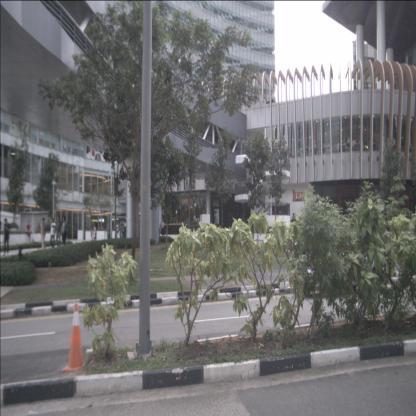cone: (63, 303, 86, 372)
